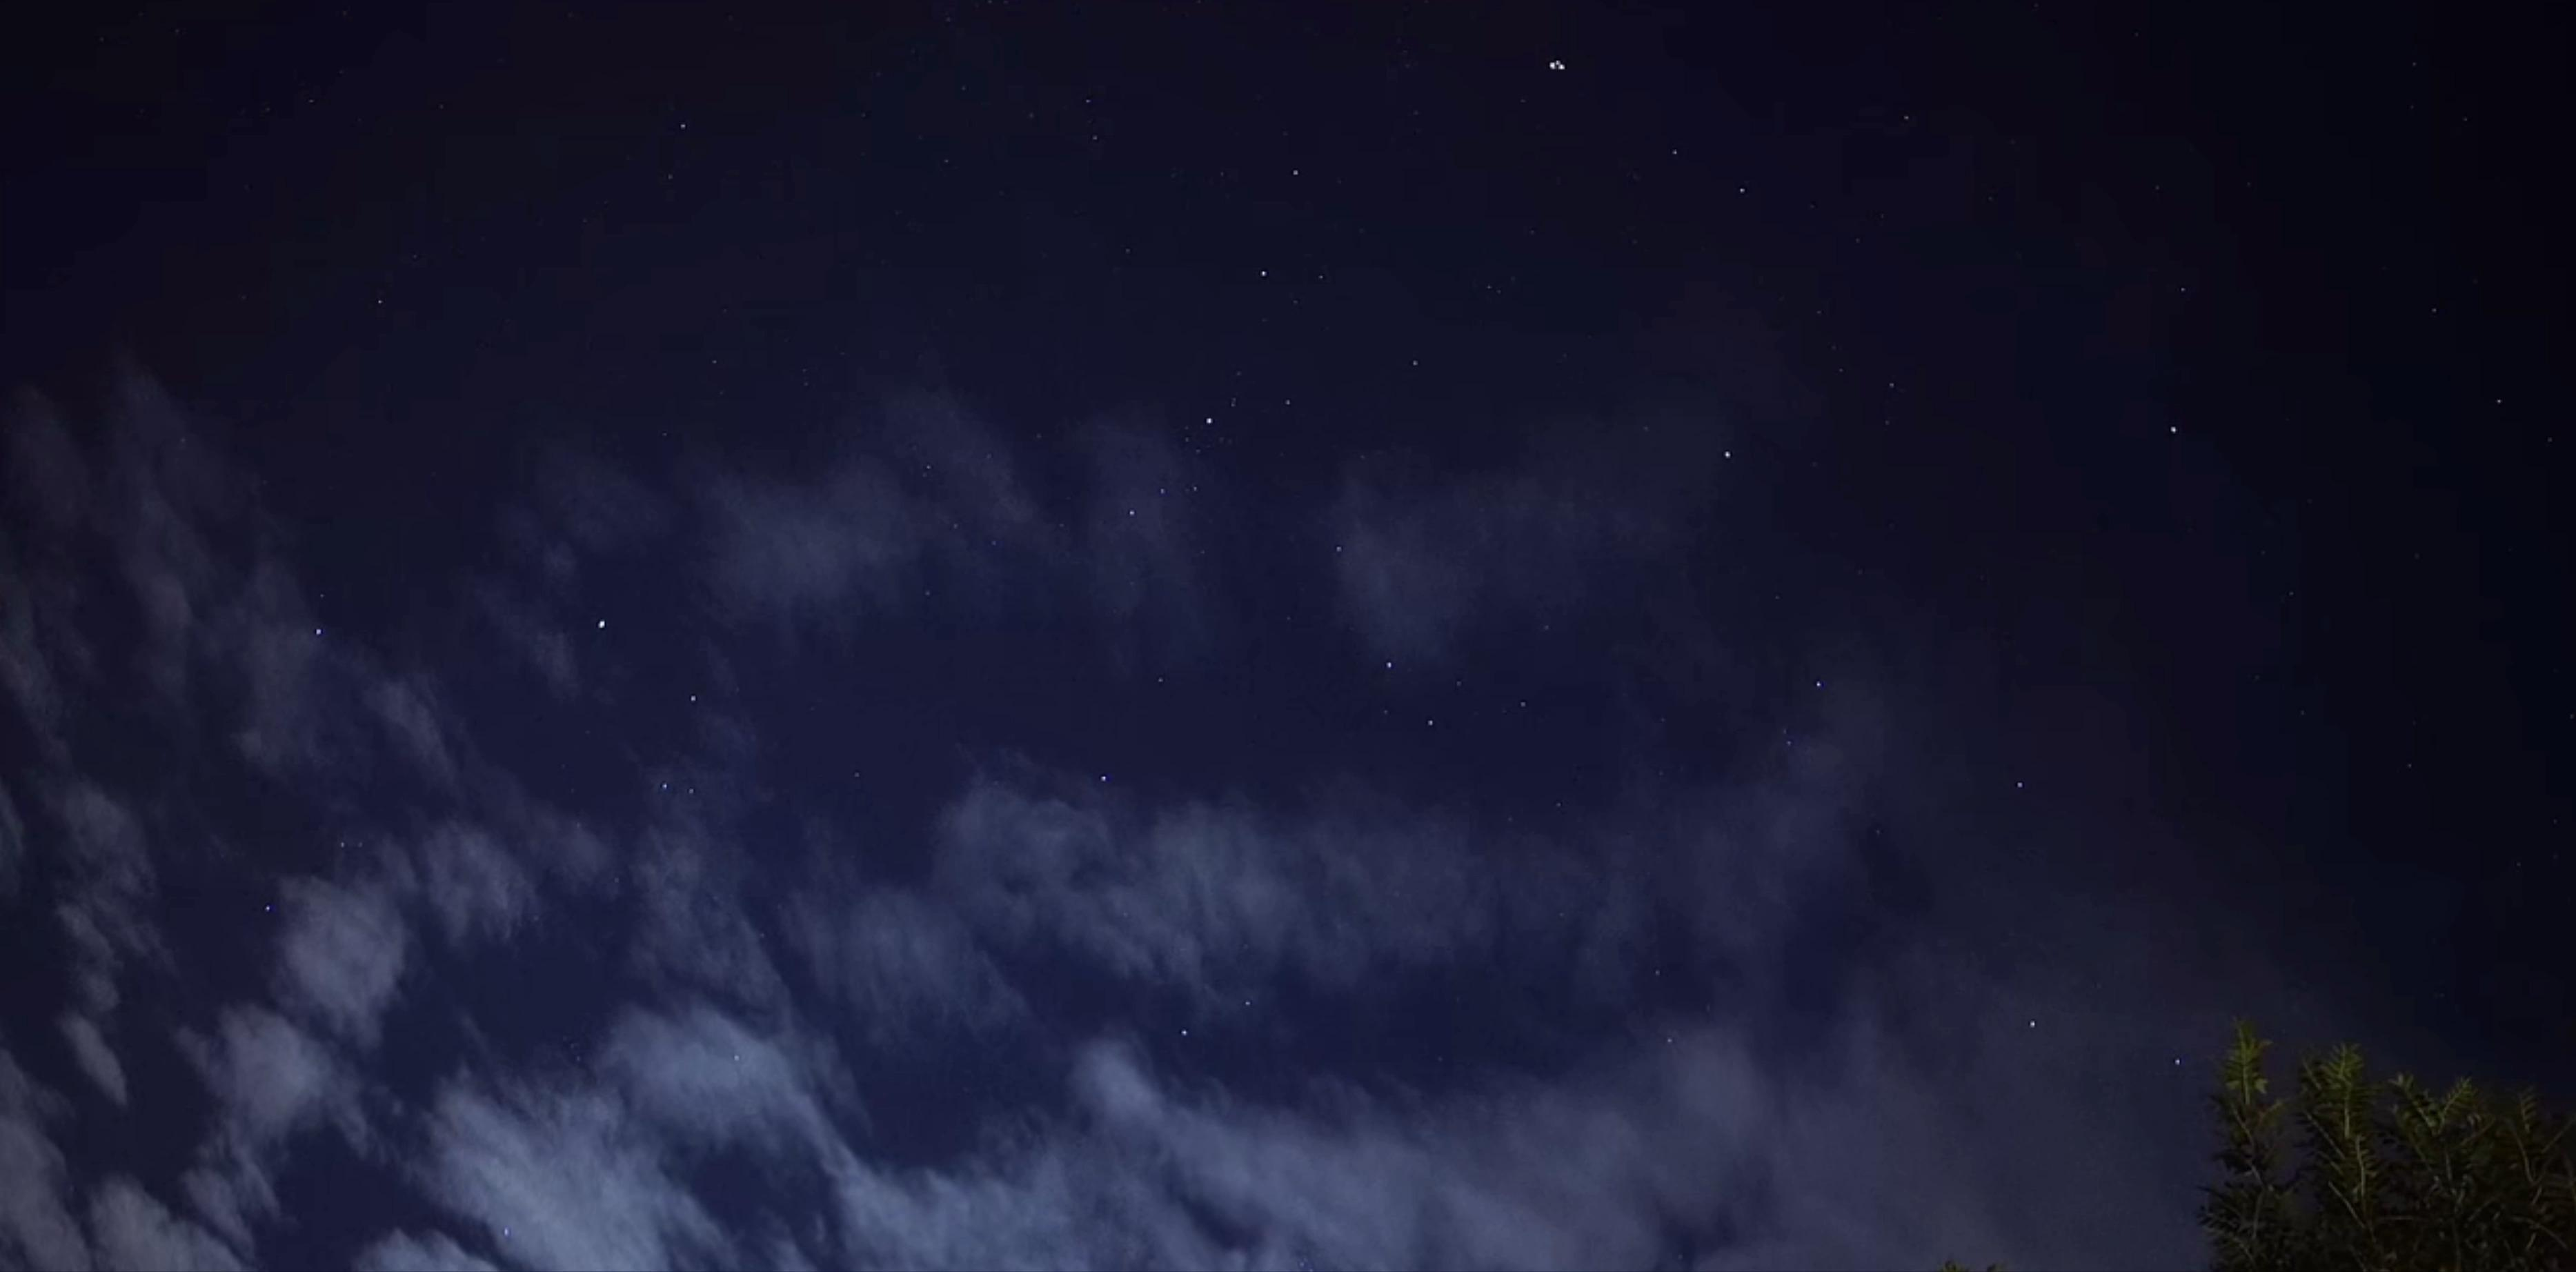Plane: (1523, 51, 1589, 81)
